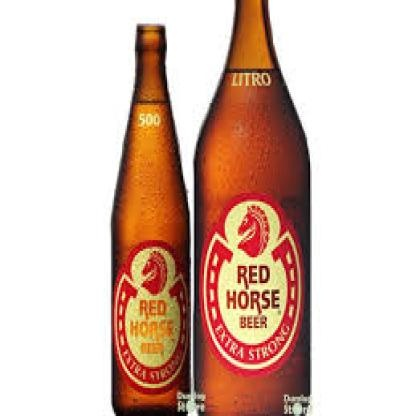trash: (195, 0, 309, 415), (112, 25, 189, 415)
